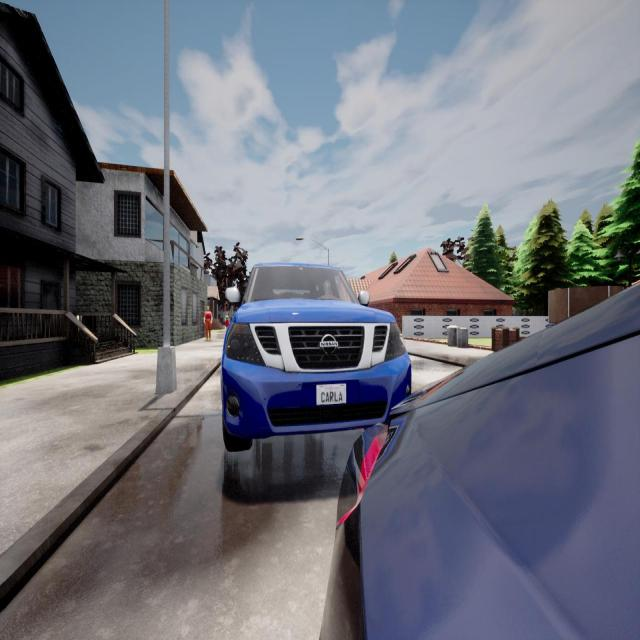Pedestrian: (204, 306, 212, 341), (224, 312, 229, 329)
Vehicle: (321, 284, 640, 638), (220, 265, 410, 452)
